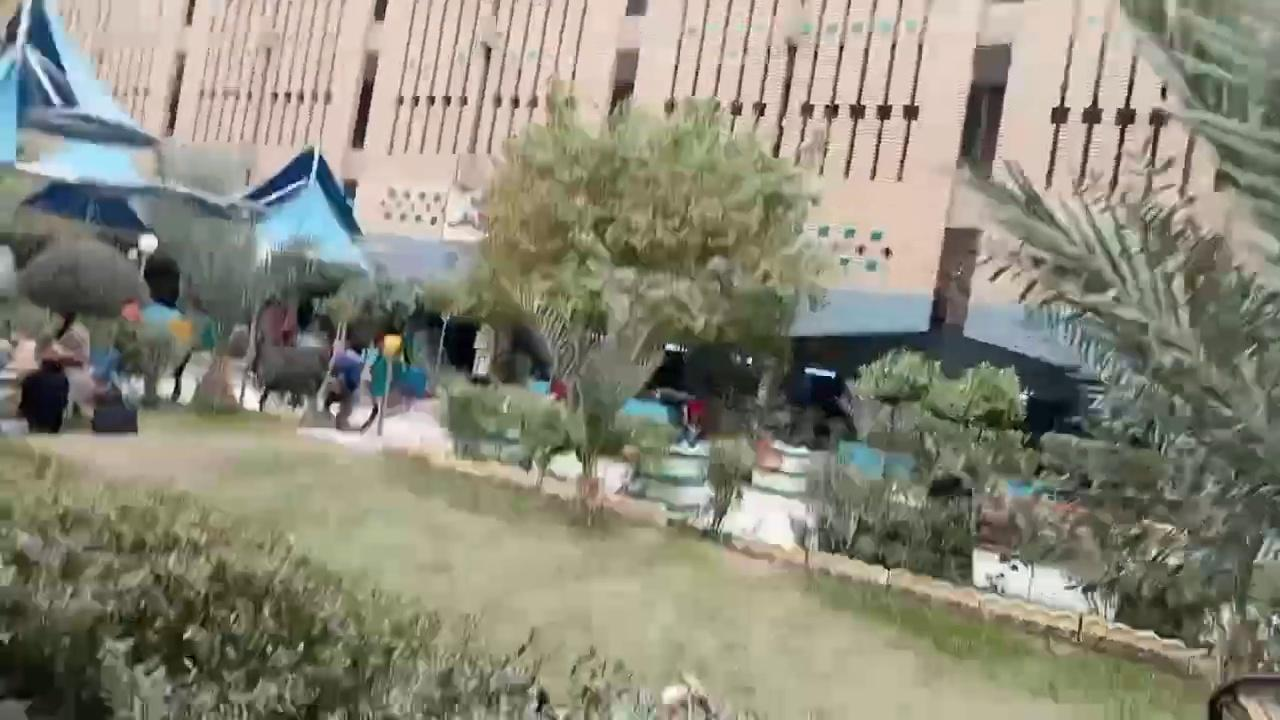tree: (1, 441, 735, 718), (421, 73, 848, 517), (953, 114, 1278, 675), (802, 344, 1039, 585), (851, 344, 941, 434)
